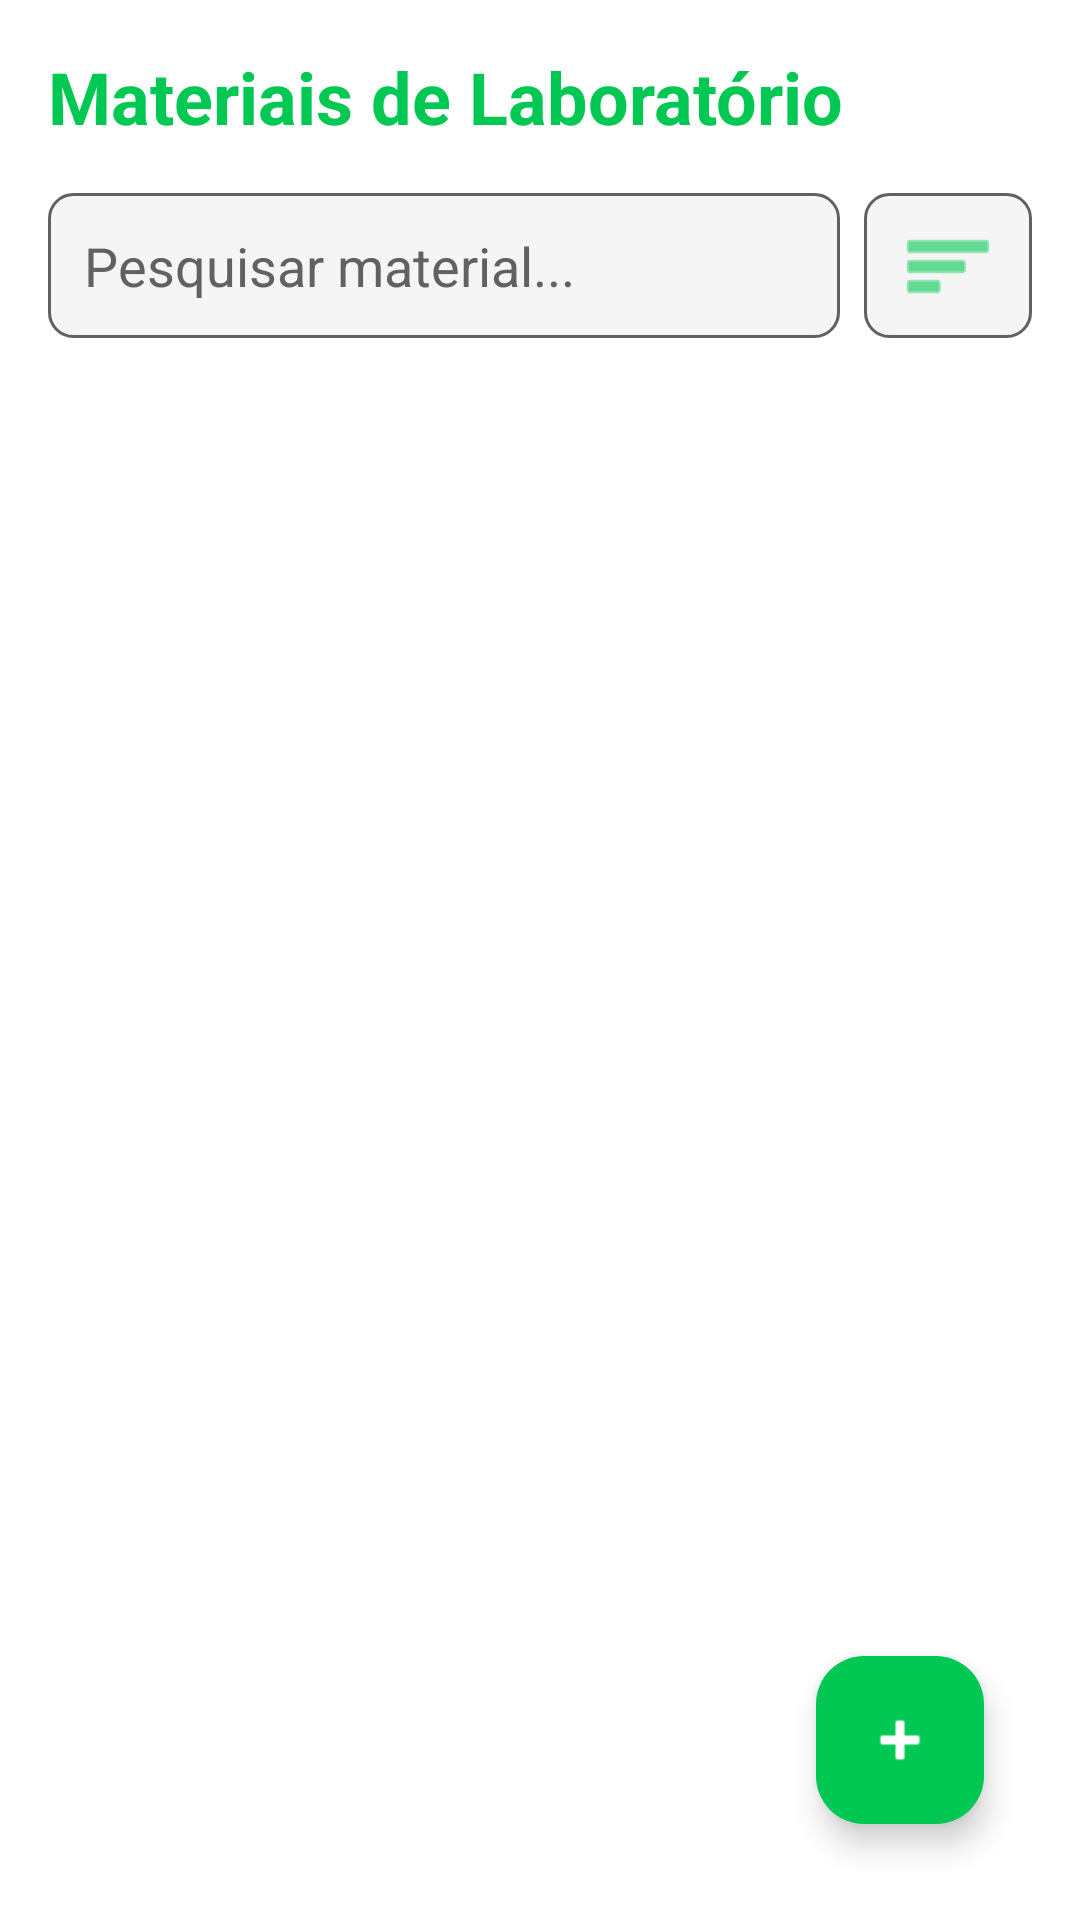

Where icons sit on this 1080 × 1920 app screen, as (x1, y1, x2, y2):
add: (816, 1656, 984, 1824)
sort by size: (864, 193, 1032, 338)
